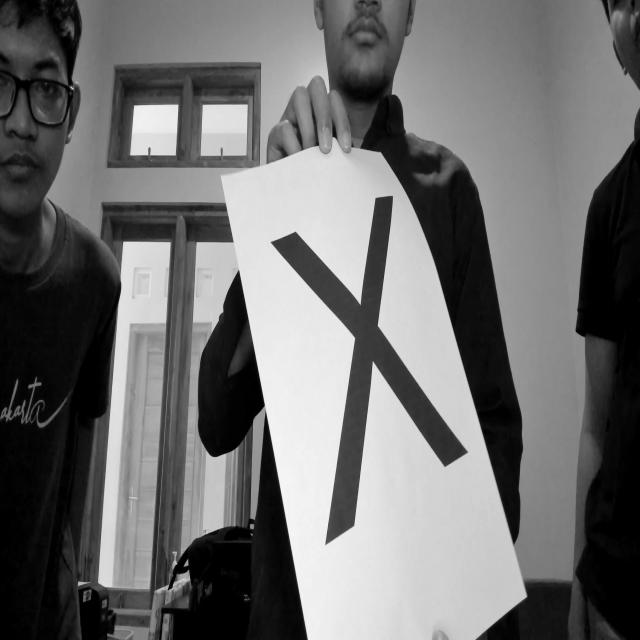x: (266, 181, 480, 557)
